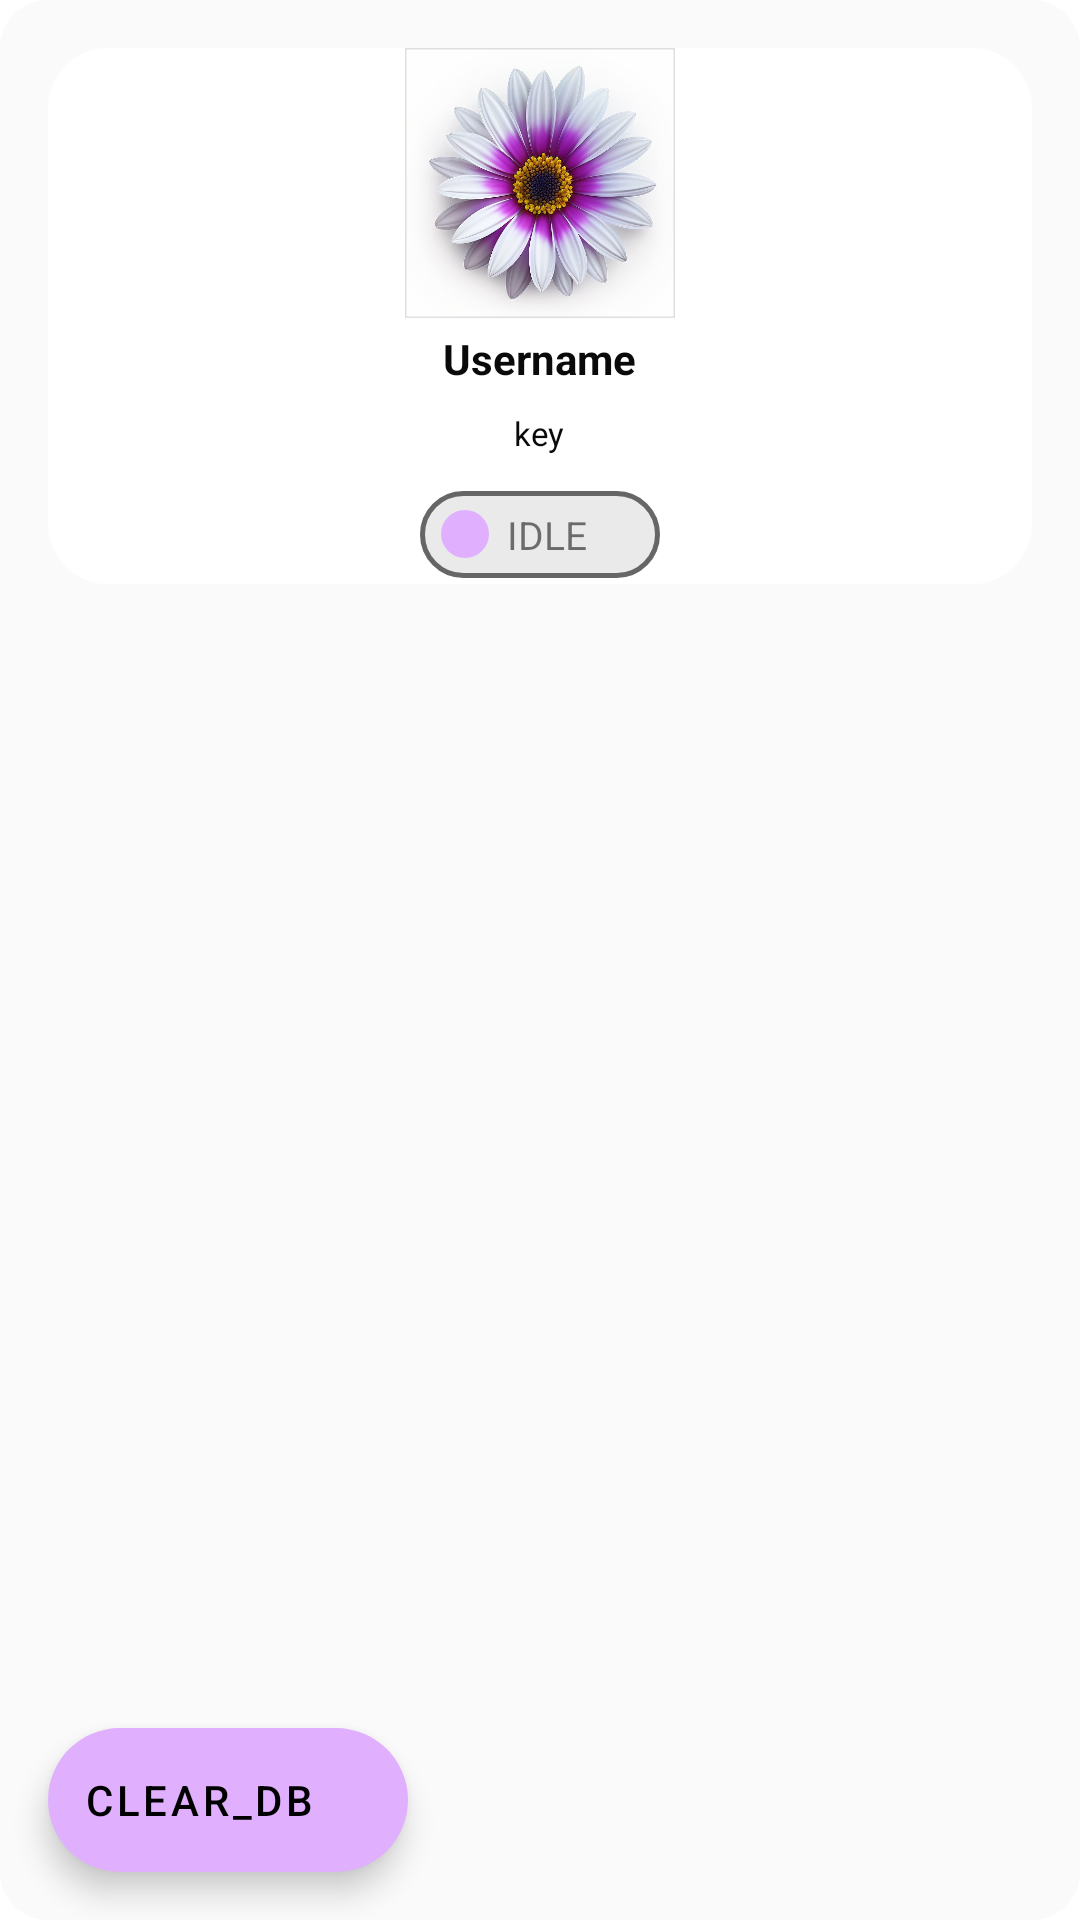

Screen size 1080×1920. Icon name, then its center in pixels as (x,y):
daisy purp: (540,183)
